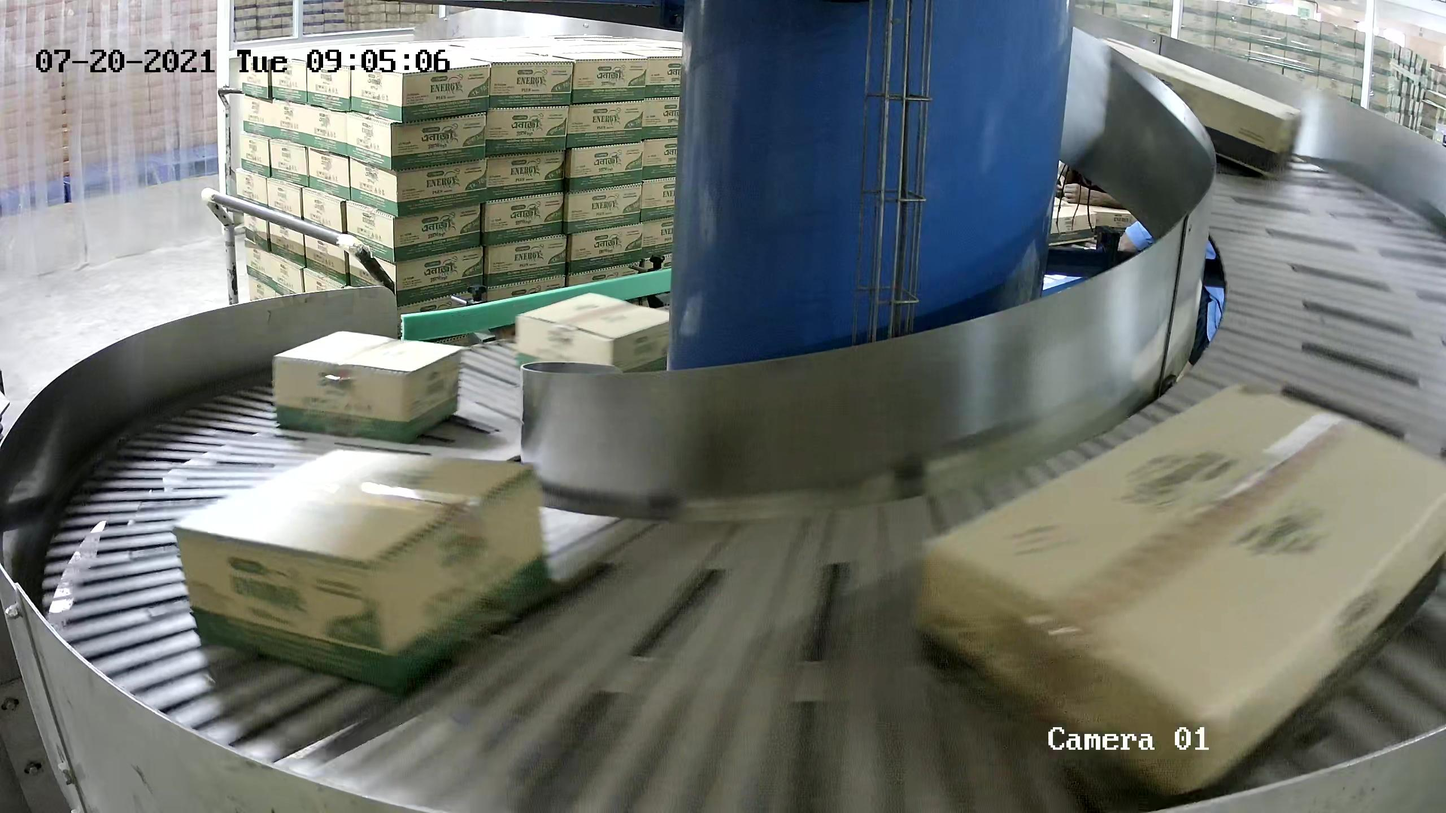Box: (911, 374, 1446, 813), (173, 446, 553, 695), (1092, 36, 1304, 182), (271, 329, 466, 444), (514, 290, 670, 374)
